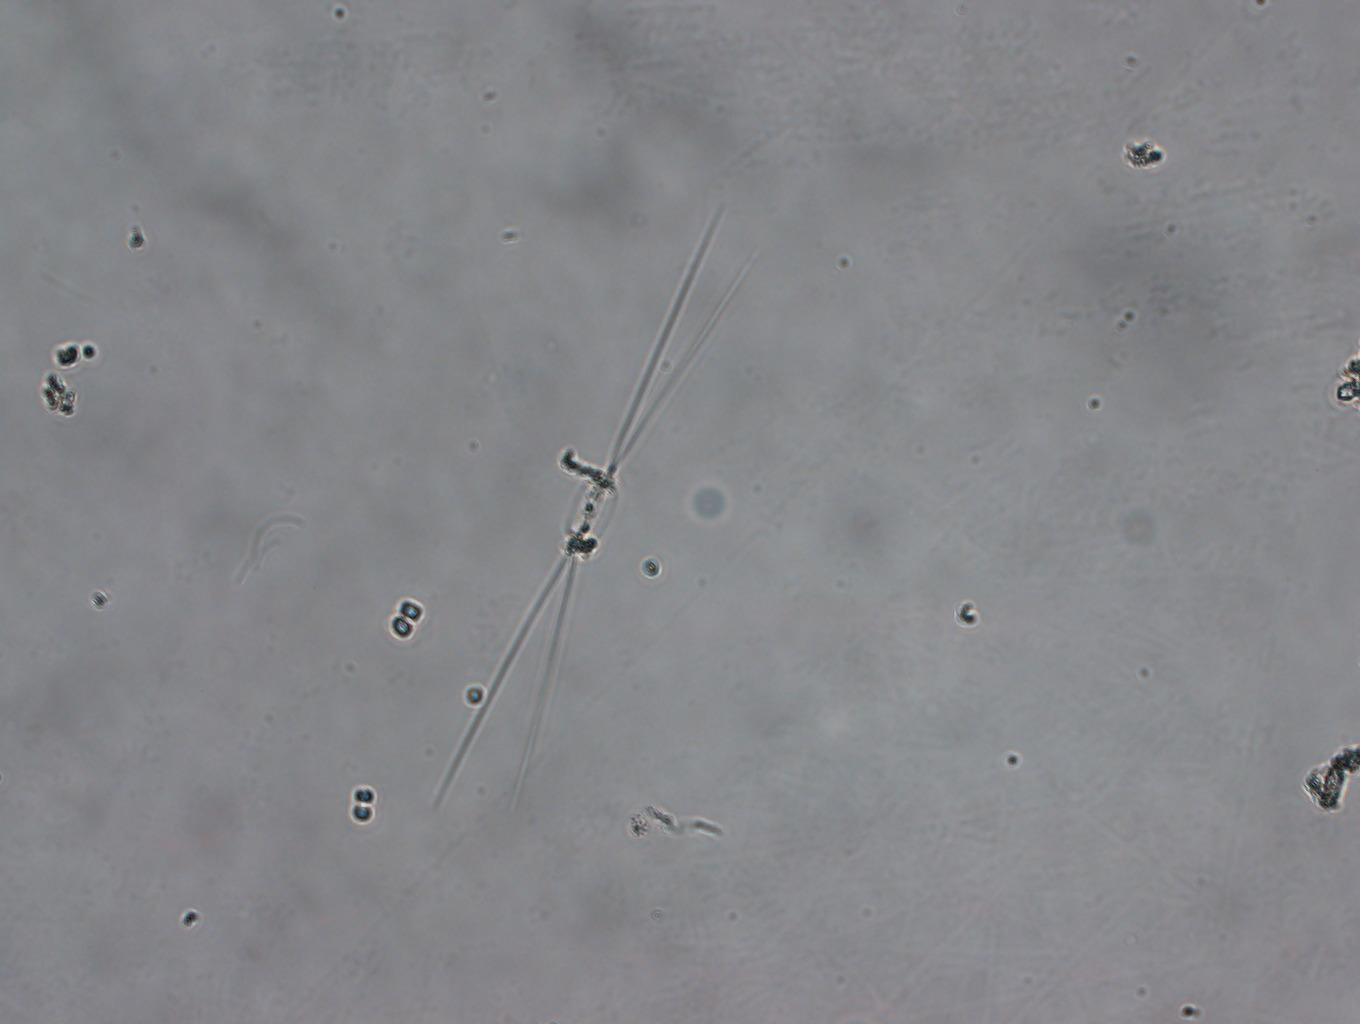chaetoceros: (430, 202, 761, 834)
